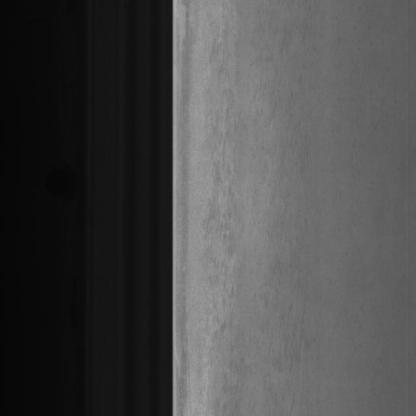silk_spot: (201, 68, 253, 364)
